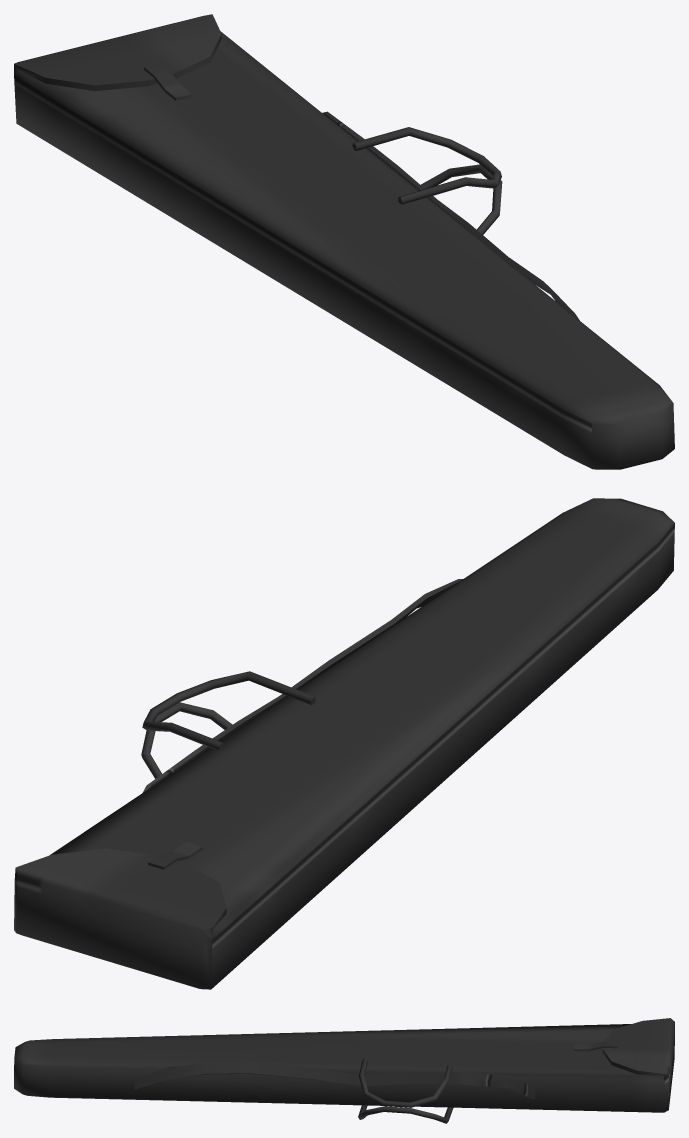
The model's file is RifleCaseCloth_Ground.fbx.
3 renders of one model, top to bottom at view 1: azimuth 30°, elevation 25°; view 2: azimuth 150°, elevation 25°; view 3: azimuth 270°, elevation 25°, orthographic. The views are drawn at different scales.
Parts seen in each view (by area): view 1: RifleCaseCloth_Gweround; view 2: RifleCaseCloth_Gweround; view 3: RifleCaseCloth_Gweround.
Part boxes in pixels (x1,y1,x2,y2): RifleCaseCloth_Gweround: [14, 14, 674, 469]; RifleCaseCloth_Gweround: [14, 498, 674, 989]; RifleCaseCloth_Gweround: [14, 1018, 674, 1123].
Bounding box in the file's own units: 1.68 × 0.4616 × 5.7.
